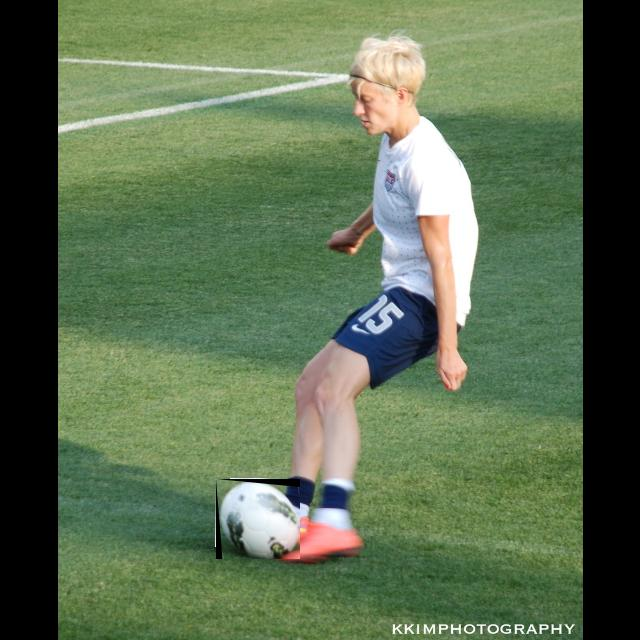Football: (216, 479, 300, 559)
